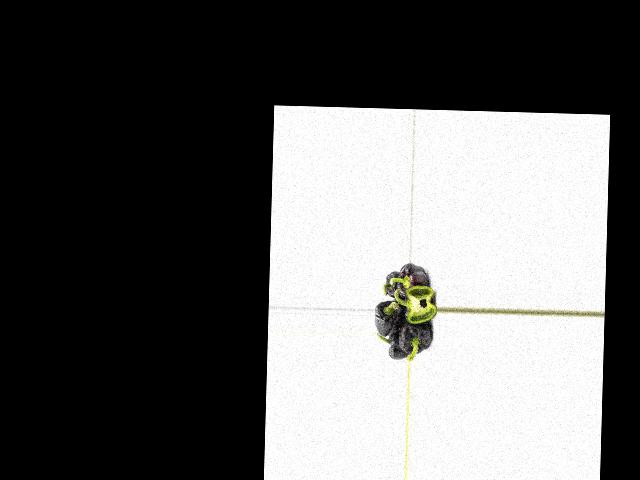bell_pepper: (396, 263, 427, 304)
